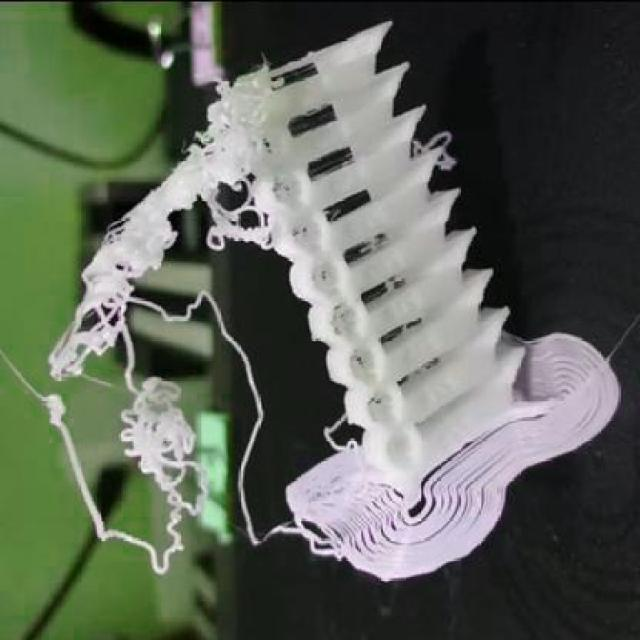Spaghetti: (43, 76, 274, 570), (274, 506, 344, 562), (318, 404, 365, 464), (406, 129, 460, 173), (356, 232, 390, 254), (382, 271, 406, 292)
